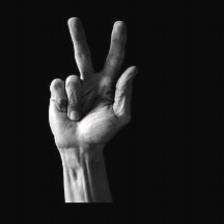three: (43, 13, 142, 166)
